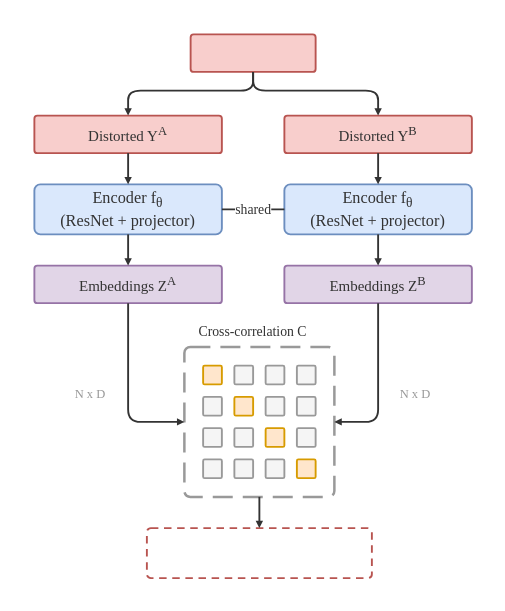
This 505x611 diagram has some shape labels left out. Each missing label, with the centre of its shape:
"Input x" goes at (252,52).
"Loss: push C to I Σ i (1−C ii )² + λ Σ i≠j C ij ²" goes at (258,552).
